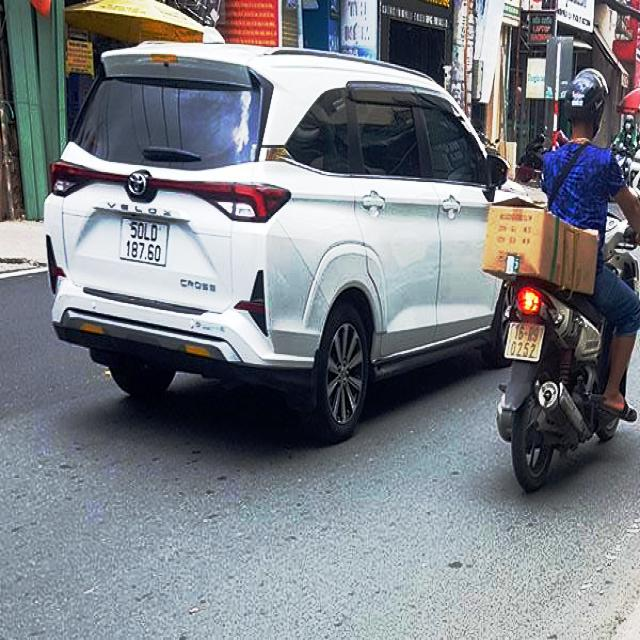license_plate: (121, 219, 169, 267), (507, 324, 545, 360)
